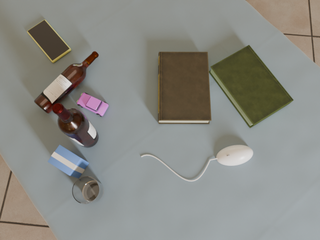book: (209, 45, 293, 128), (158, 52, 211, 124)
bottle: (34, 51, 99, 113), (52, 103, 98, 148)
box: (48, 145, 89, 179)
cup: (72, 176, 104, 204)
mouse: (216, 145, 253, 166)
phone: (27, 20, 71, 63)
toy_car: (77, 93, 108, 117)
